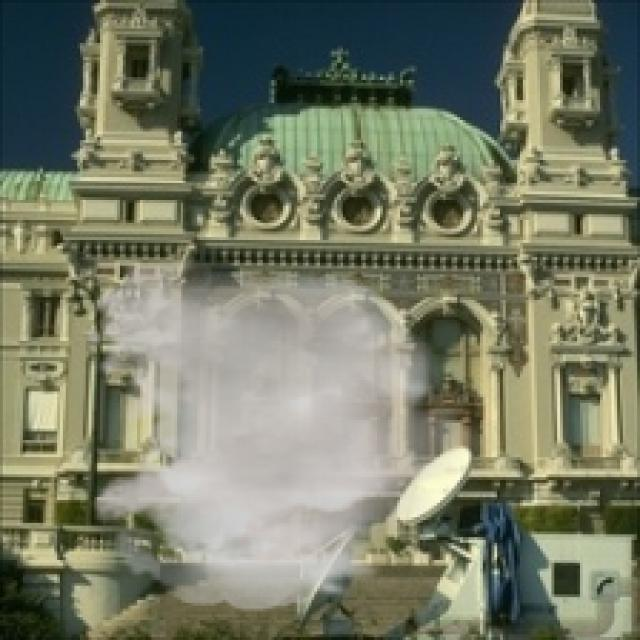smoke: (77, 257, 492, 612)
